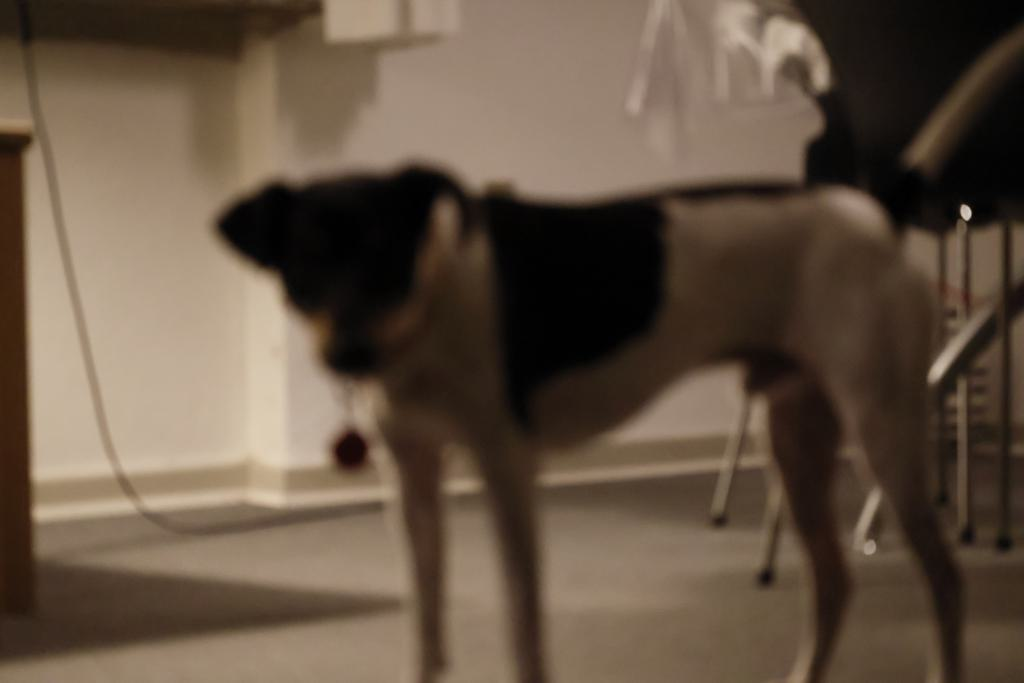Dog: (202, 23, 1024, 683)
